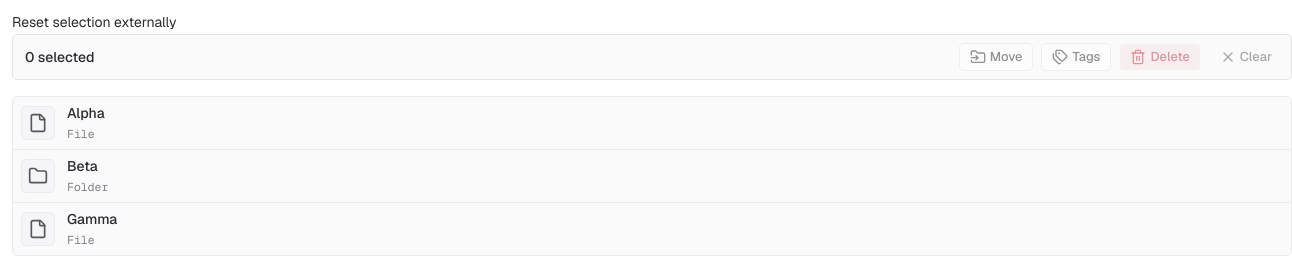
LibraryContent desktop selection › clears every selected node from a selected row check control
Step 1. Click the button "Alpha File" → (86, 113), box 67,101 -> 1283,145
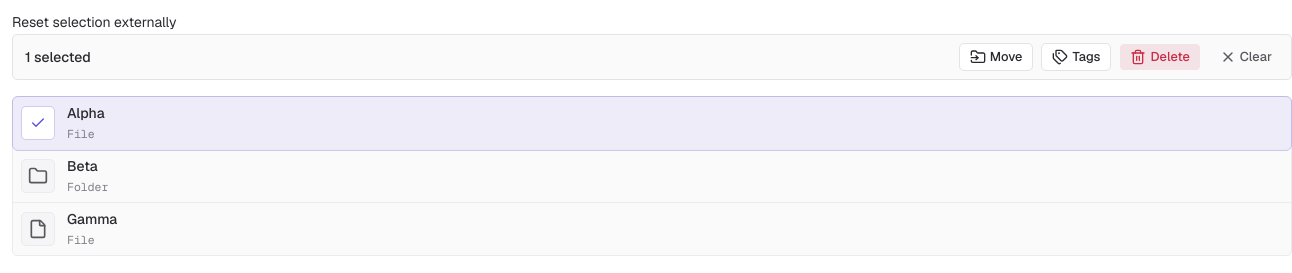
Step 2. Click the button "Beta Folder" → (82, 166), box 67,154 -> 1283,198
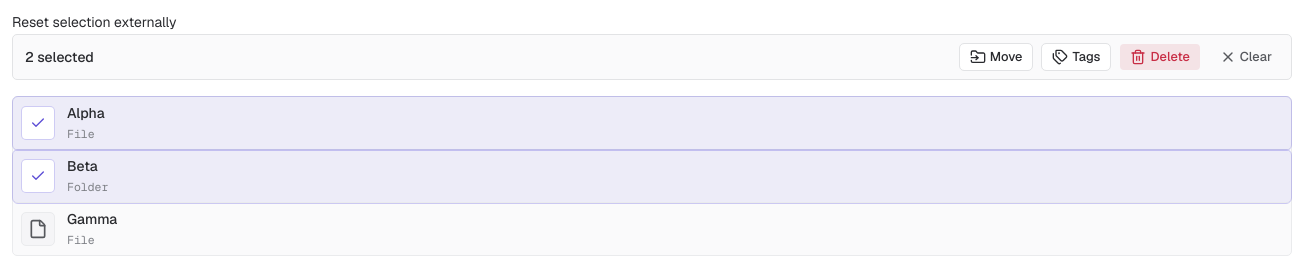
Now the text "2 selected" is shown, box 21,47 -> 98,67
Step 3. Click the button named "Clear selection (Alpha)" → (38, 123), box 21,106 -> 55,140
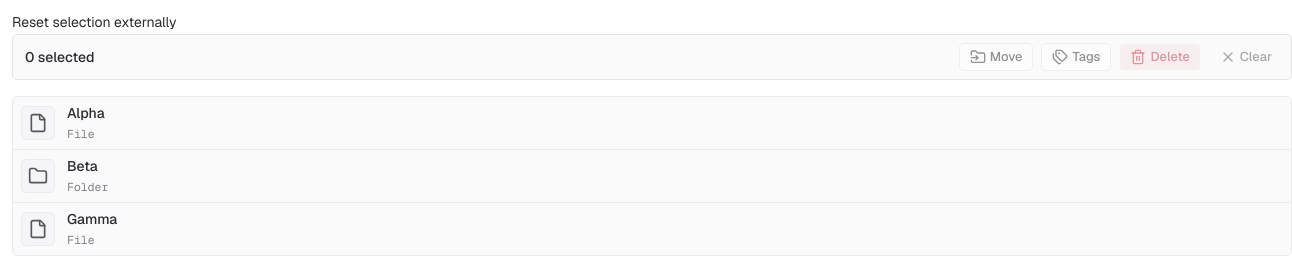
Now the text "0 selected" is shown, box 21,47 -> 98,67
